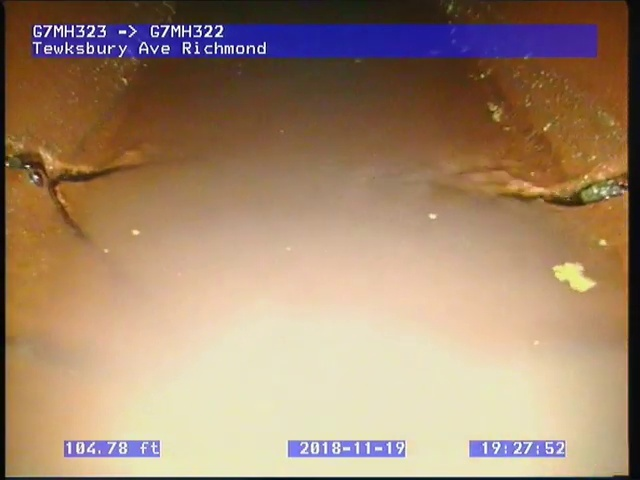crack: (5, 134, 151, 251), (491, 168, 628, 212)
